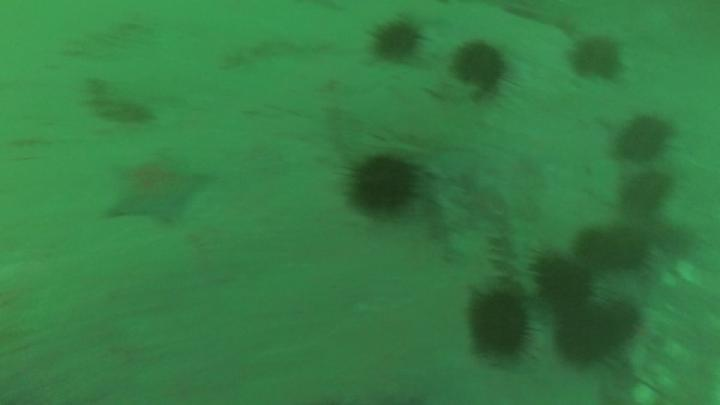echinus: (470, 291, 528, 361), (348, 158, 412, 215), (531, 256, 595, 303), (562, 300, 609, 364), (452, 40, 505, 91), (617, 115, 671, 162), (571, 37, 622, 80), (572, 228, 618, 271), (370, 22, 420, 61), (608, 224, 651, 269), (620, 173, 669, 212), (603, 297, 641, 345)
holothurian: (479, 186, 542, 297), (84, 77, 151, 123)
starfish: (109, 162, 215, 226)
